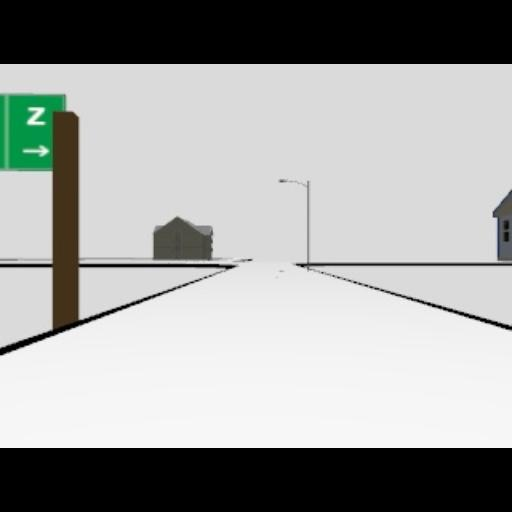Right: (21, 144, 51, 156)
Z: (24, 104, 46, 124)
